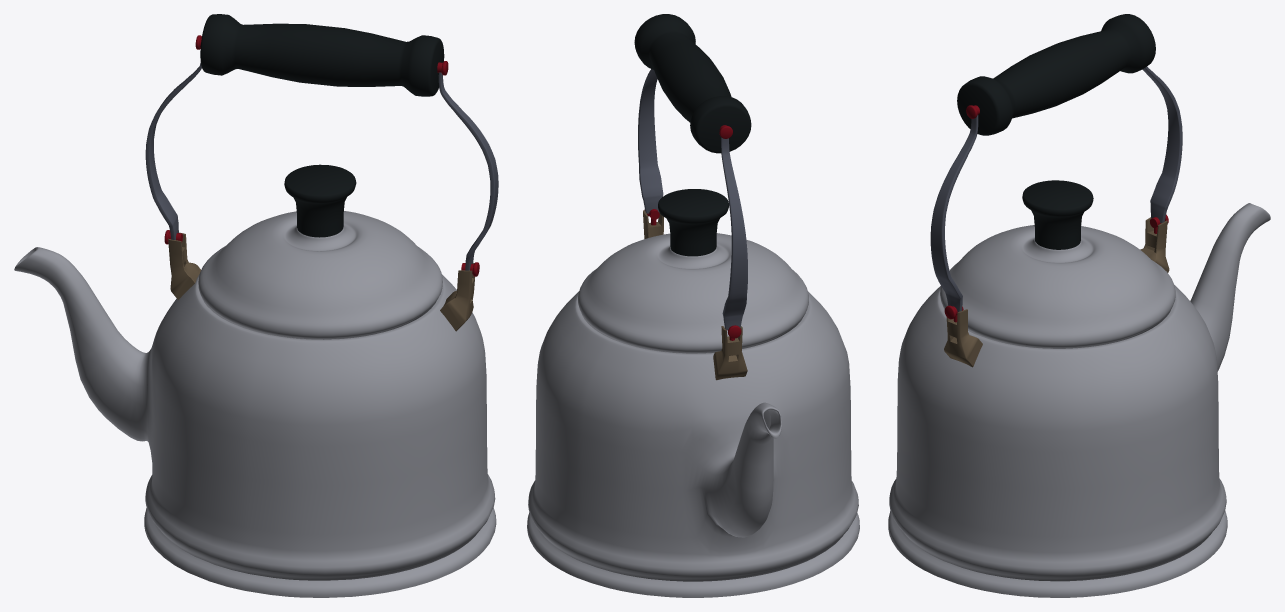
3 renders of one model, left to right at view 1: azimuth 30°, elevation 25°; view 2: azimuth 150°, elevation 25°; view 3: azimuth 270°, elevation 25°, orthographic. The views are drawn at different scales.
Parts seen in each view (by area): view 1: Circle01 (×8); view 2: Circle01 (×7); view 3: Circle01 (×8).
Boxes of the visible parts, x1,y1,x2,y2 form: Circle01 (×8): (14, 14, 498, 597); Circle01 (×7): (527, 14, 859, 597); Circle01 (×8): (888, 14, 1270, 597).
Size of the model in its own units: 530 by 519 by 717.
